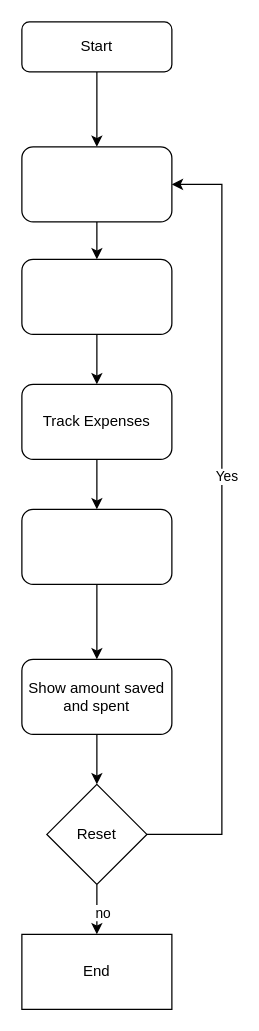
The diagram is 259 pixels wide and 1031 high, and some of its shapes have lost their labels. The shapes that lost their labels are listed below. From the top down, each one's centre as x and y in pixels, then its label:
pixel 96 184: Input paycheck amount
pixel 96 296: Set budget period
pixel 96 546: End of budget period
